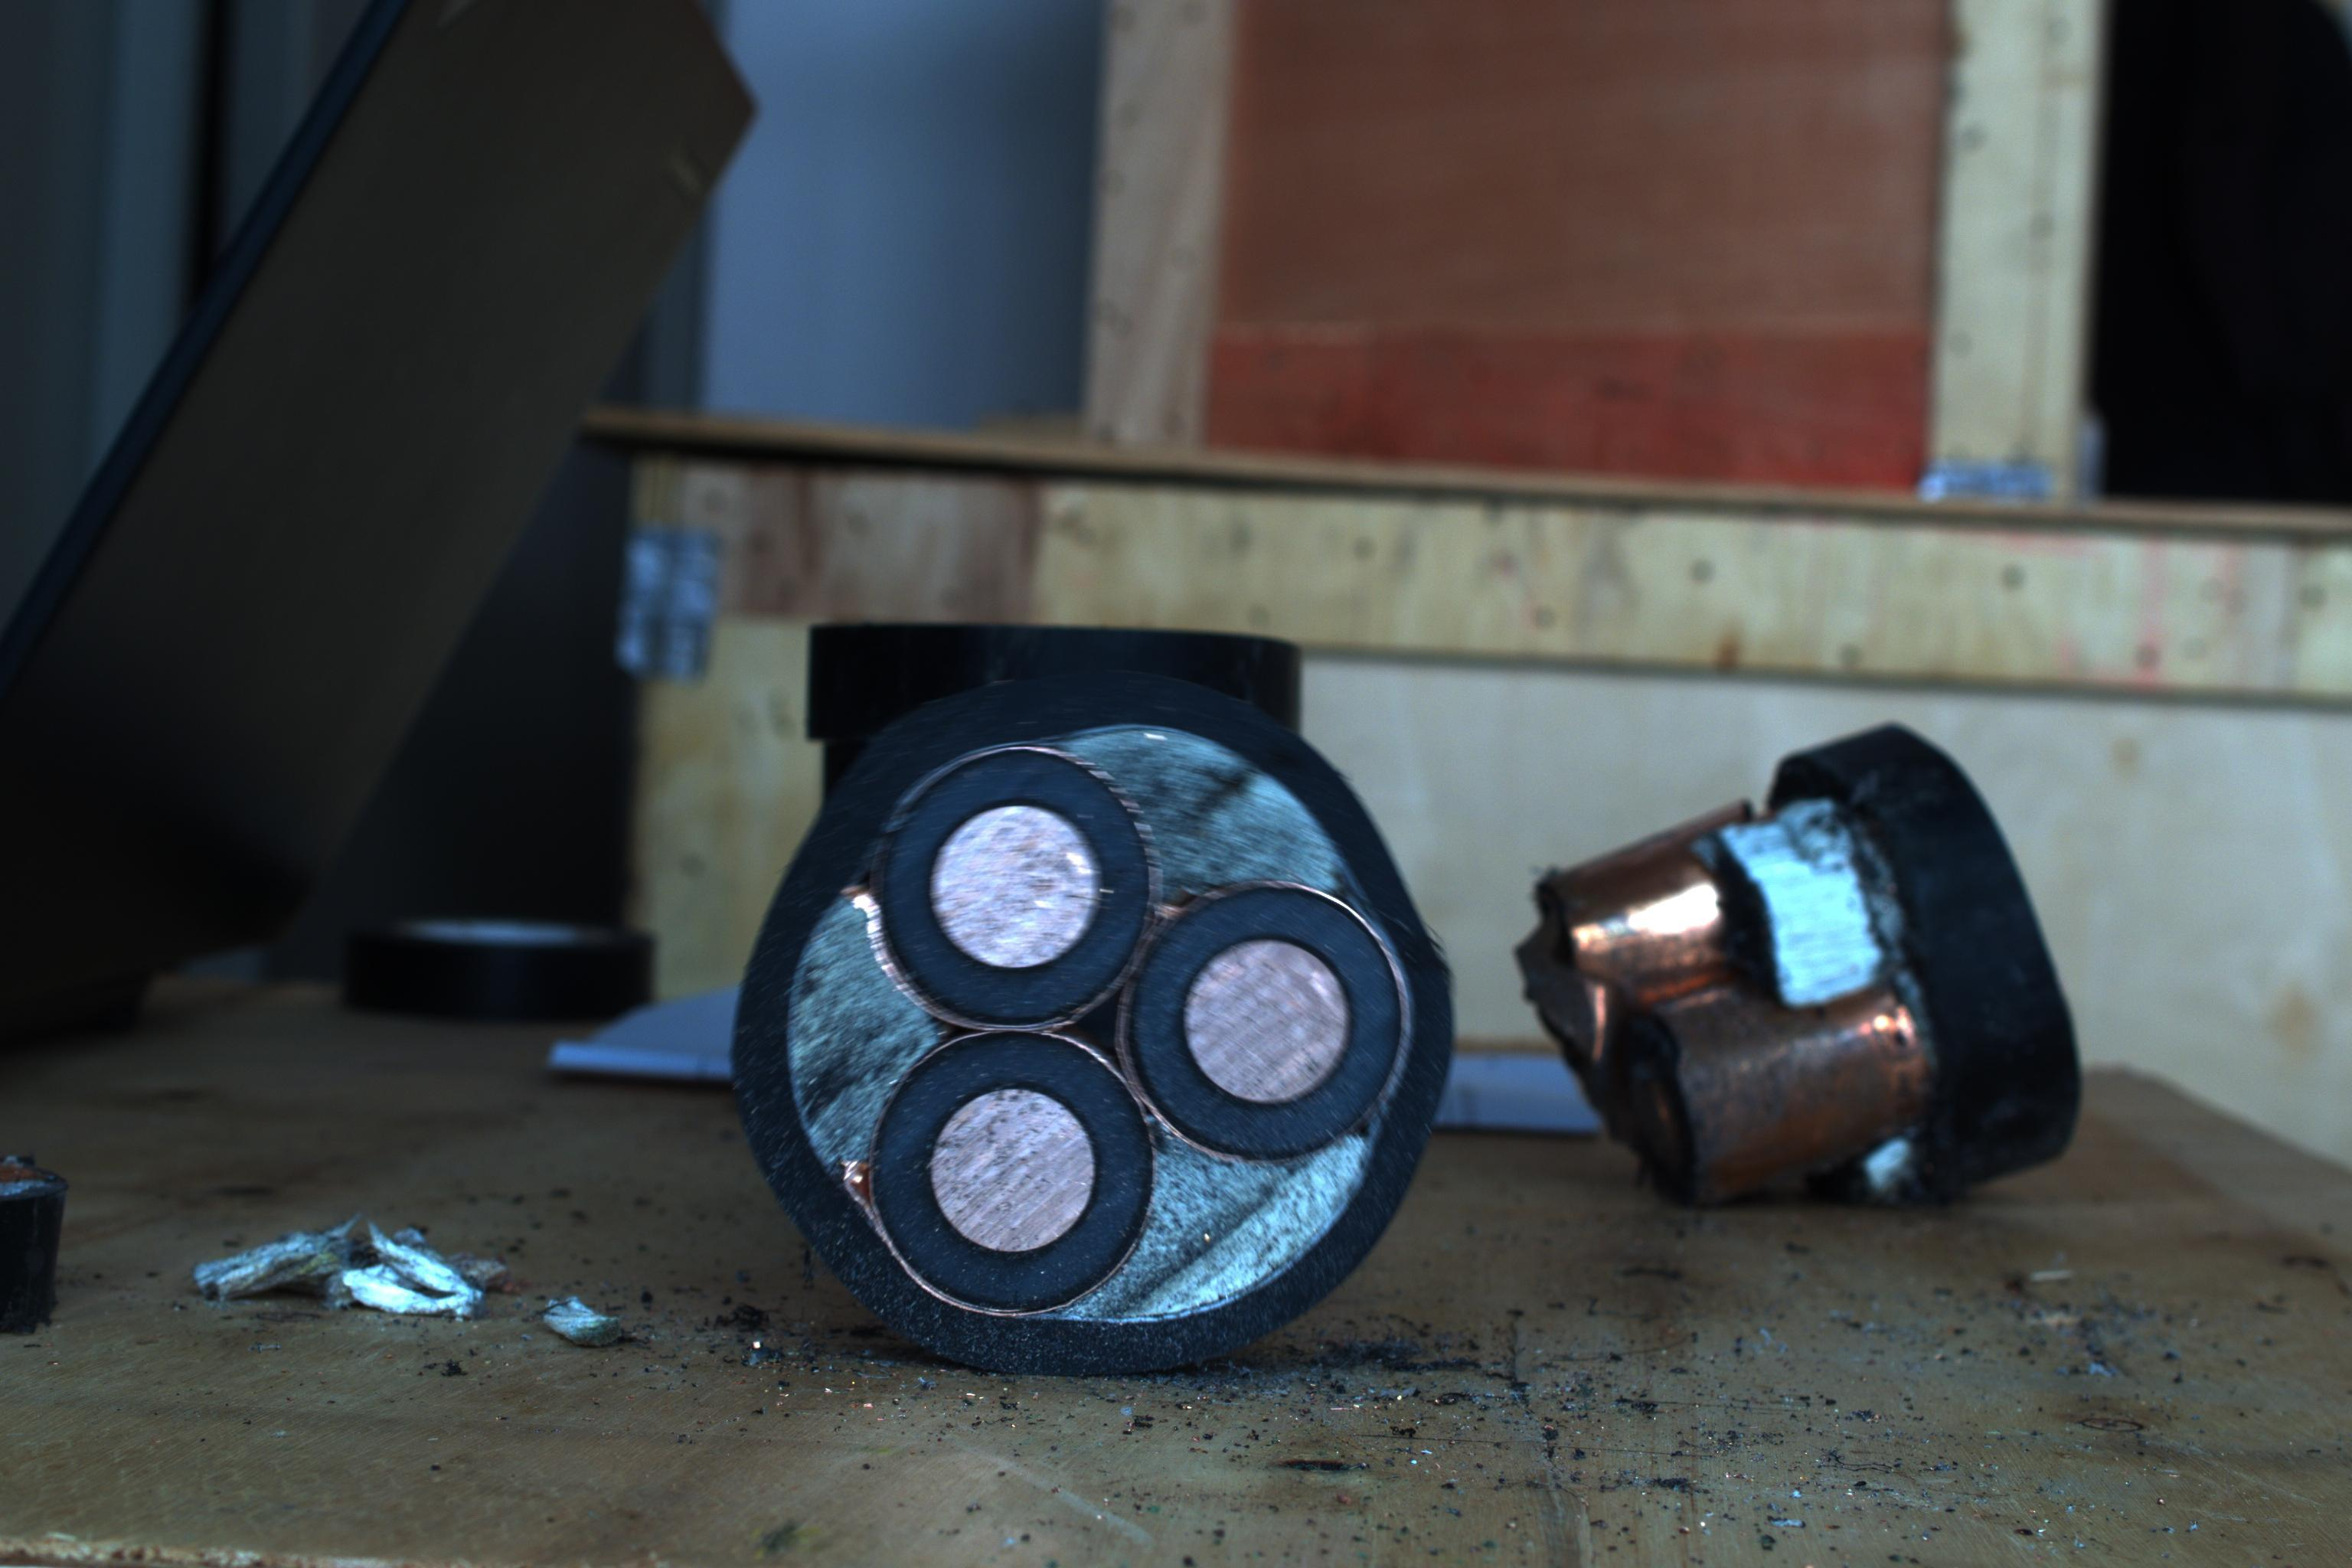ZA_YJV_8.7_10kV_3x240: (742, 684, 1456, 1354)
